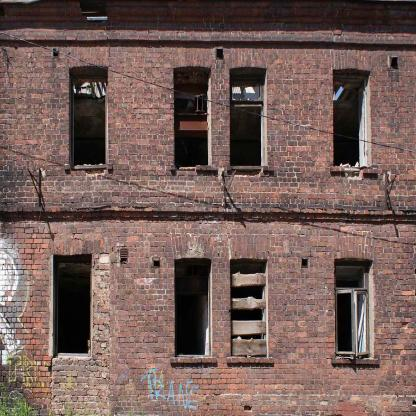Building Outline: (0, 1, 416, 416)
Facade: (0, 1, 416, 416)
Floor: (0, 0, 416, 207), (0, 217, 416, 416)
Floor Slab: (0, 207, 416, 217)
Sill: (226, 357, 274, 364), (169, 357, 217, 363), (332, 359, 380, 365), (330, 168, 378, 173), (226, 166, 274, 170), (196, 165, 218, 171)
Window: (52, 253, 92, 358), (334, 257, 374, 360), (173, 66, 211, 171), (332, 69, 372, 168), (69, 66, 108, 167), (230, 258, 268, 358), (174, 258, 212, 358), (230, 67, 267, 166)
